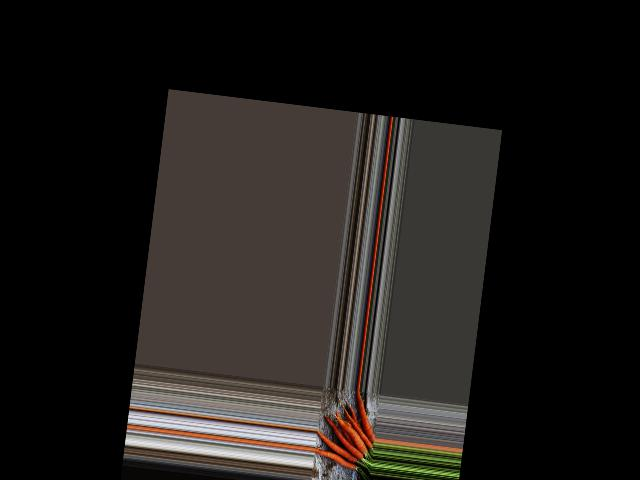carrot: (348, 391, 380, 446)
